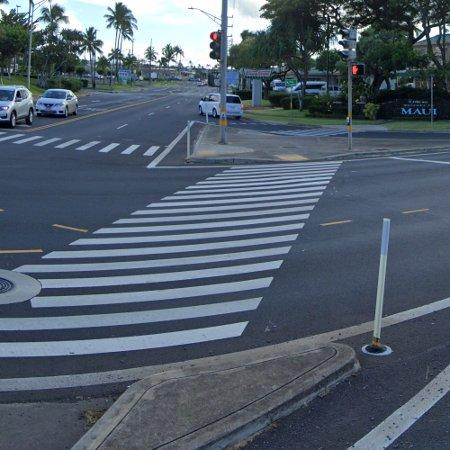crosswalks: (0, 132, 165, 157)
